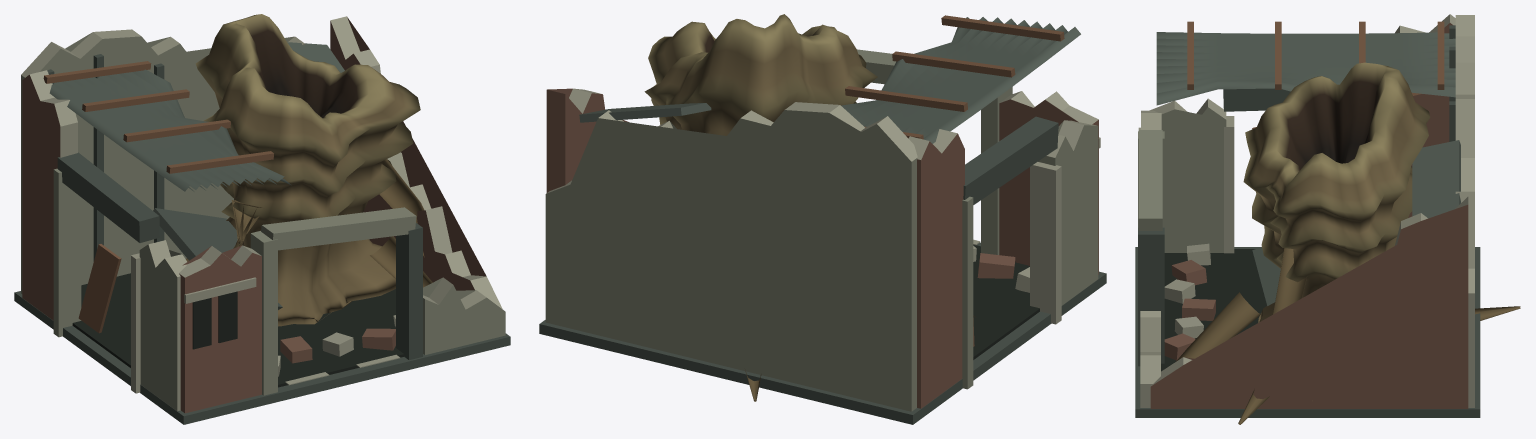
Rendered from infected_warehouse_alive.glb.
3 views of the same model, side by side, from view 1: azimuth 30°, elevation 25°; view 2: azimuth 150°, elevation 25°; view 3: azimuth 270°, elevation 25° (orthographic). The views are drawn at different scales.
Parts seen in each view (by area): view 1: WarehouseShell, Infection; view 2: WarehouseShell, Infection; view 3: WarehouseShell, Infection.
Part boxes in pixels (x1,y1,x2,y2): WarehouseShell: [14, 16, 510, 424]; Infection: [186, 14, 432, 326]; WarehouseShell: [539, 15, 1106, 424]; Infection: [644, 14, 975, 401]; WarehouseShell: [1135, 14, 1480, 417]; Infection: [1176, 62, 1520, 424].
Bounding box in the file's own units: 7.03 × 5.09 × 6.38.
